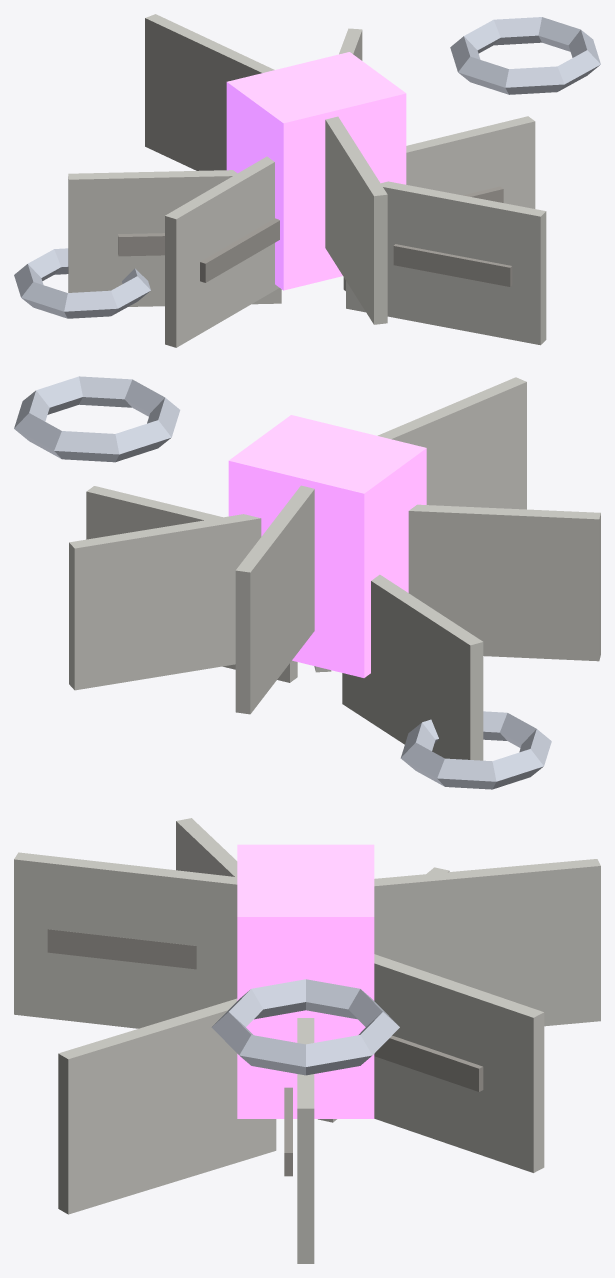
The model's file is paperwork_phantom.glb.
The picture shows the model from 3 angles, top to bottom: view 1: azimuth 30°, elevation 25°; view 2: azimuth 150°, elevation 25°; view 3: azimuth 270°, elevation 25°; orthographic projection. The views are drawn at different scales.
Visible parts, largest first — view 1: Core, Sheet6, Sheet4, Sheet3, Sheet2, Sheet5, Sheet0, ClipA, ClipB, Ink6, Ink4, Ink3 (+1 smaller); view 2: Core, Sheet4, Sheet1, Sheet3, Sheet2, Sheet5, ClipA, ClipB, Sheet0; view 3: Sheet5, Sheet6, Sheet2, Core, Sheet1, ClipA, Sheet0, Ink5, Ink1, Sheet4, Ink0.
Part boxes in pixels (x1,y1,x2,y2): Core: (226, 52, 406, 290); Sheet6: (346, 181, 546, 345); Sheet4: (165, 156, 279, 347); Sheet3: (68, 170, 281, 306); Sheet2: (145, 14, 274, 170); Sheet5: (325, 116, 387, 324); Sheet0: (343, 116, 535, 290); ClipA: (450, 17, 600, 94); ClipB: (14, 248, 150, 318); Ink6: (393, 244, 512, 286); Ink4: (200, 218, 279, 282); Ink3: (118, 233, 164, 256); Core: (228, 415, 426, 677); Sheet4: (408, 504, 600, 661); Sheet1: (69, 514, 261, 690); Sheet3: (342, 574, 483, 760); Sheet2: (235, 485, 314, 714); Sheet5: (377, 377, 526, 509); ClipA: (14, 376, 180, 462); ClipB: (400, 711, 551, 789); Sheet0: (86, 486, 297, 682); Sheet5: (14, 852, 237, 1028); Sheet6: (58, 998, 276, 1214); Sheet2: (374, 859, 600, 1026); Core: (237, 844, 374, 1118); Sheet1: (374, 954, 544, 1172); ClipA: (211, 979, 399, 1075); Sheet0: (297, 1018, 314, 1263); Ink5: (47, 929, 196, 969); Ink1: (374, 1035, 483, 1091); Sheet4: (176, 818, 237, 876); Ink0: (284, 1087, 292, 1176).
Size of the model in its own units: 0.85 by 0.33 by 0.6851.
